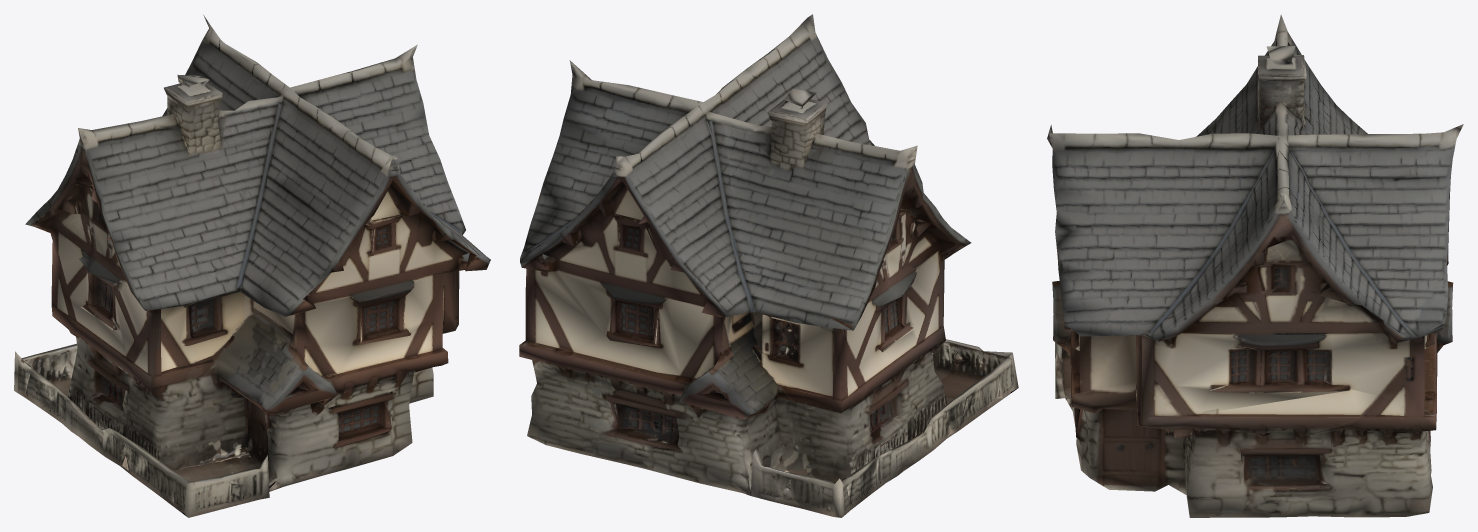
File: two_story_building.glb
The picture shows the model from 3 angles, left to right: view 1: azimuth 30°, elevation 25°; view 2: azimuth 150°, elevation 25°; view 3: azimuth 270°, elevation 25°; orthographic projection. The views are drawn at different scales.
Visible parts, largest first — view 1: Mesh1.0; view 2: Mesh1.0; view 3: Mesh1.0.
Part boxes in pixels (x1=…): Mesh1.0: x1=14, y1=15, x2=490, y2=517; Mesh1.0: x1=519, y1=14, x2=1018, y2=517; Mesh1.0: x1=1047, y1=14, x2=1463, y2=517.
Size of the model in its own units: 1.91 by 1.85 by 1.88.
Materials: 1 (1 with a texture image).
